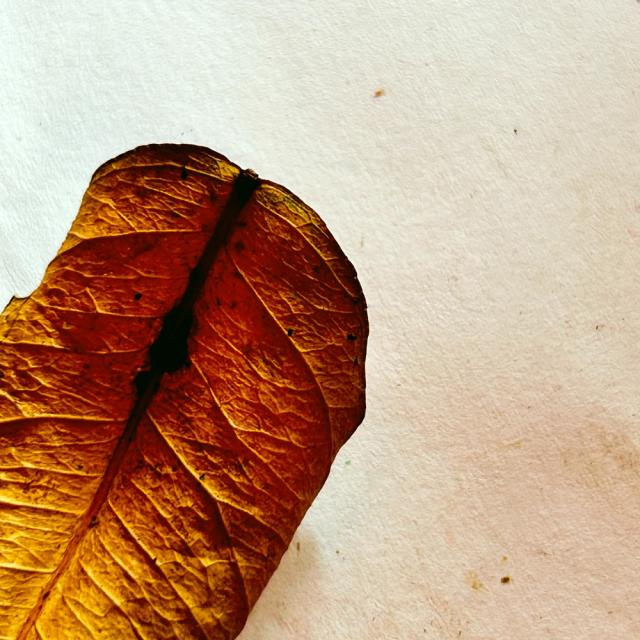DryLeaf_Lemon: (0, 145, 368, 639)
